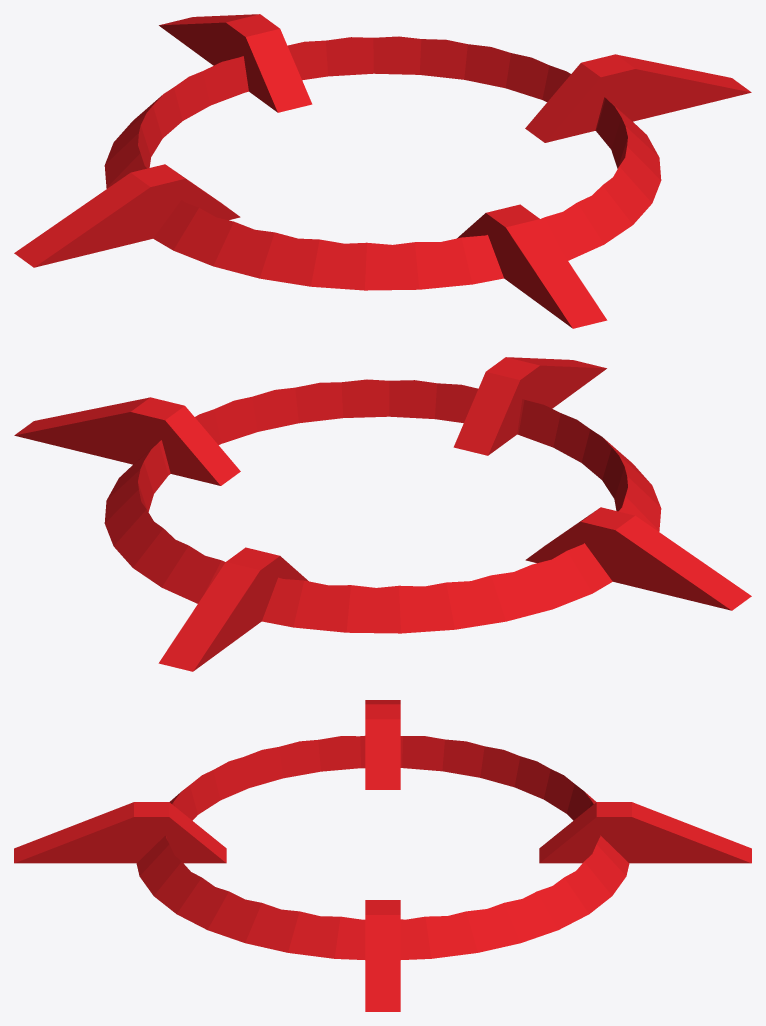
Rendered from _in_processing.dae.
3 renders of one model, top to bottom at view 1: azimuth 30°, elevation 25°; view 2: azimuth 150°, elevation 25°; view 3: azimuth 270°, elevation 25°, orthographic. The views are drawn at different scales.
Parts seen in each view (by area): view 1: Cone; view 2: Cone; view 3: Cone.
Part boxes in pixels (x1,y1,x2,y2): Cone: (14, 14, 751, 328); Cone: (14, 357, 751, 671); Cone: (14, 700, 751, 1011).
Size of the model in its own units: 2081 by 2081 by 144.
